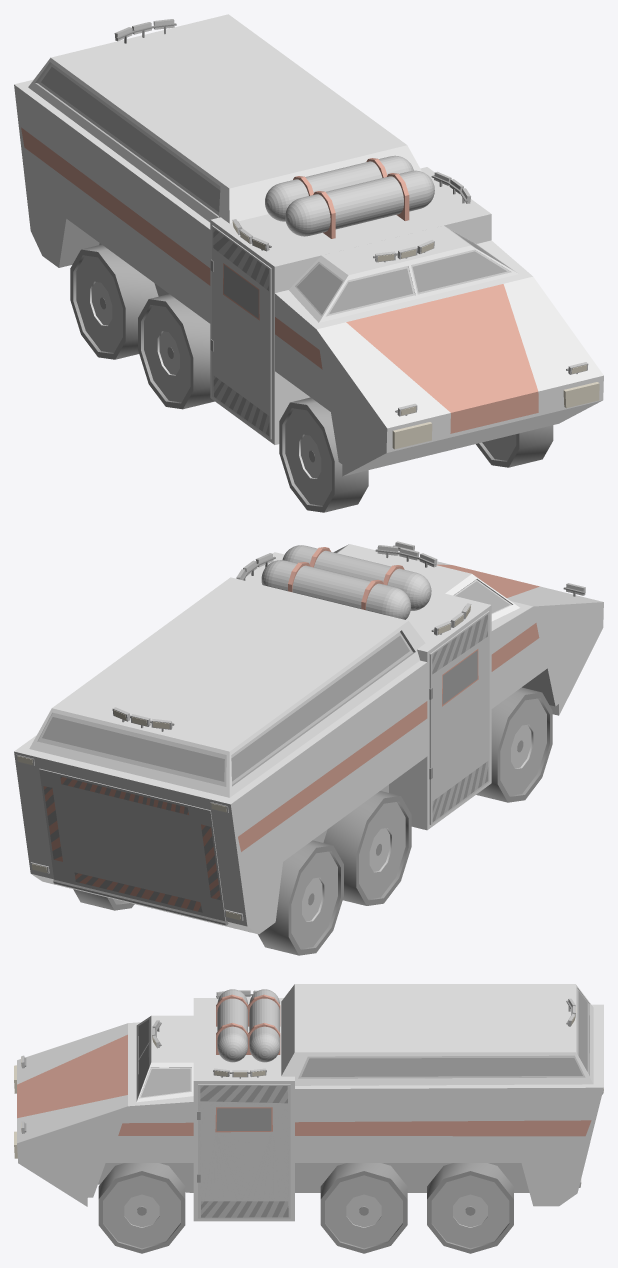
Rendered from kar1.fbx.
The picture shows the model from 3 angles, top to bottom: view 1: azimuth 30°, elevation 25°; view 2: azimuth 150°, elevation 25°; view 3: azimuth 270°, elevation 25°; orthographic projection. The views are drawn at different scales.
Visible parts, largest first — view 1: Cylinder, Boole_2, Boole_2_2, Boole_2_3, Boole_2_6; view 2: Cylinder, Boole_2_2, Boole_2, Boole_2_3, Boole_2_4; view 3: Cylinder, Boole_2_6, Boole_2_5, Boole_2_4.
Boxes of the visible parts, x1,y1,x2,y2 form: Cylinder: (14,14,603,476); Boole_2: (70,244,158,359); Boole_2_2: (138,294,214,409); Boole_2_3: (279,397,368,512); Boole_2_6: (476,425,553,467); Cylinder: (14,541,603,934); Boole_2_2: (323,791,411,905); Boole_2: (258,840,343,955); Boole_2_3: (476,687,552,802); Boole_2_4: (73,889,134,910); Cylinder: (14,984,603,1221); Boole_2_6: (98,1163,185,1253); Boole_2_5: (320,1163,407,1253); Boole_2_4: (427,1163,513,1253).
Bounding box in the file's own units: 305 × 341 × 900.
